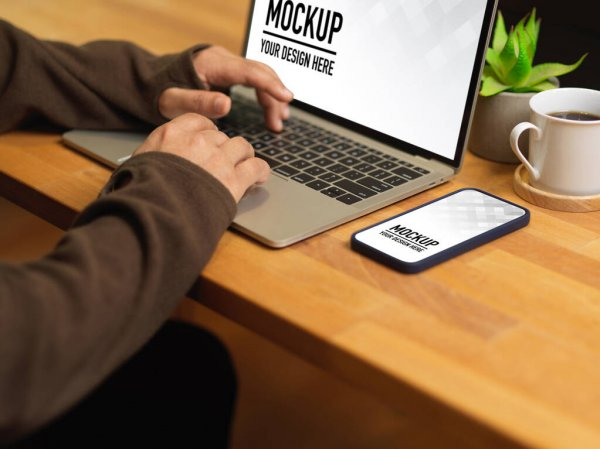Cell Phone: (351, 187, 529, 277)
